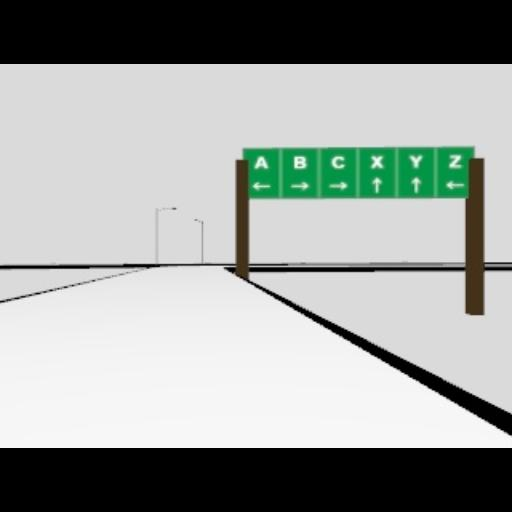A: (252, 156, 270, 170)
B: (292, 156, 308, 170)
C: (330, 154, 346, 170)
Left: (251, 182, 273, 192), (446, 180, 464, 190)
Right: (328, 180, 350, 192), (290, 181, 310, 191)
Straight: (409, 176, 423, 194), (372, 176, 382, 194)
X: (370, 154, 386, 168)
Y: (408, 154, 422, 168)
Z: (448, 154, 464, 170)
